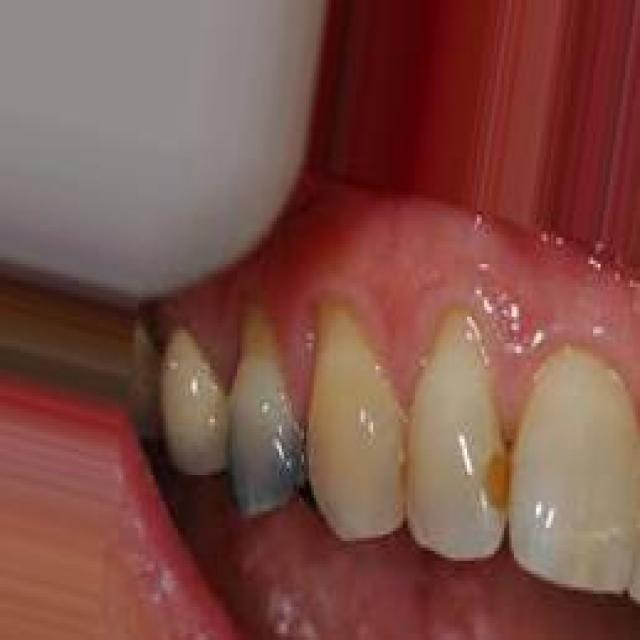caries: (479, 443, 521, 523)
